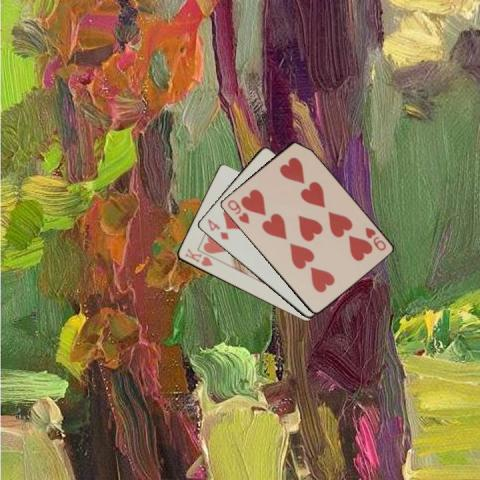4d: (204, 216, 230, 241)
9h: (224, 197, 251, 225), (362, 224, 387, 252)
Kh: (181, 245, 214, 268)
